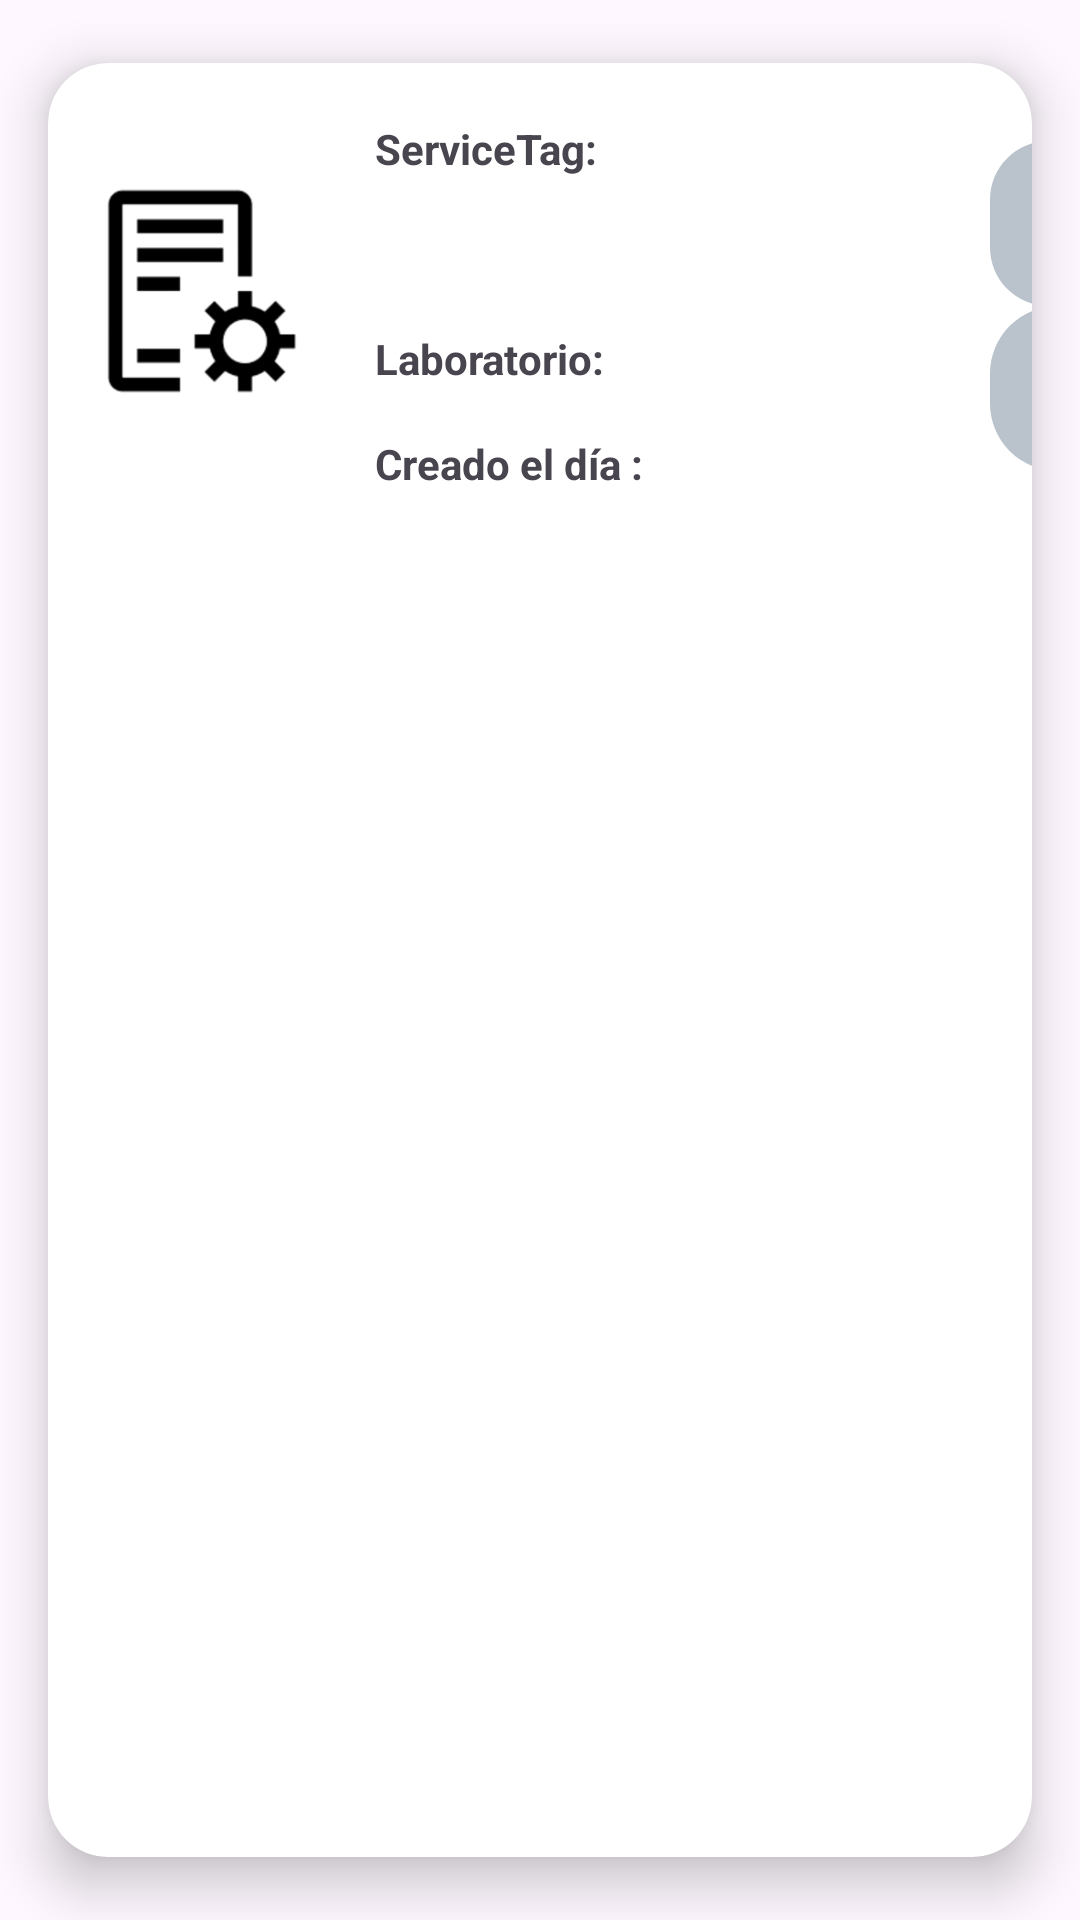

Icons on this 1080w x 1920h Android screen, each with the point to tap as (x=x, y=y):
mantenimiento: (x=201, y=291)
